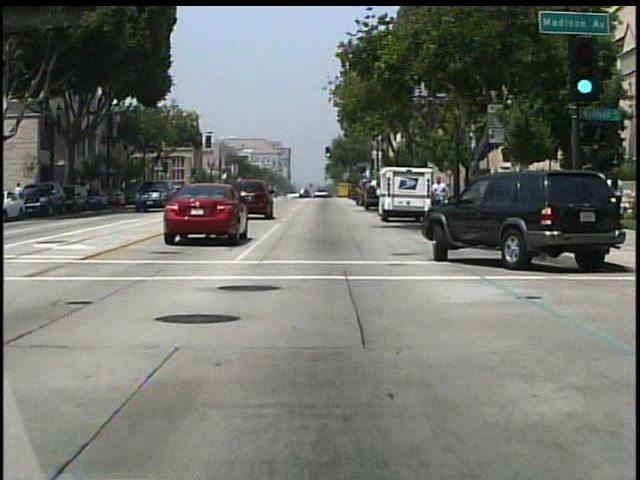person: (428, 173, 450, 223), (351, 181, 366, 210), (15, 180, 26, 208)
